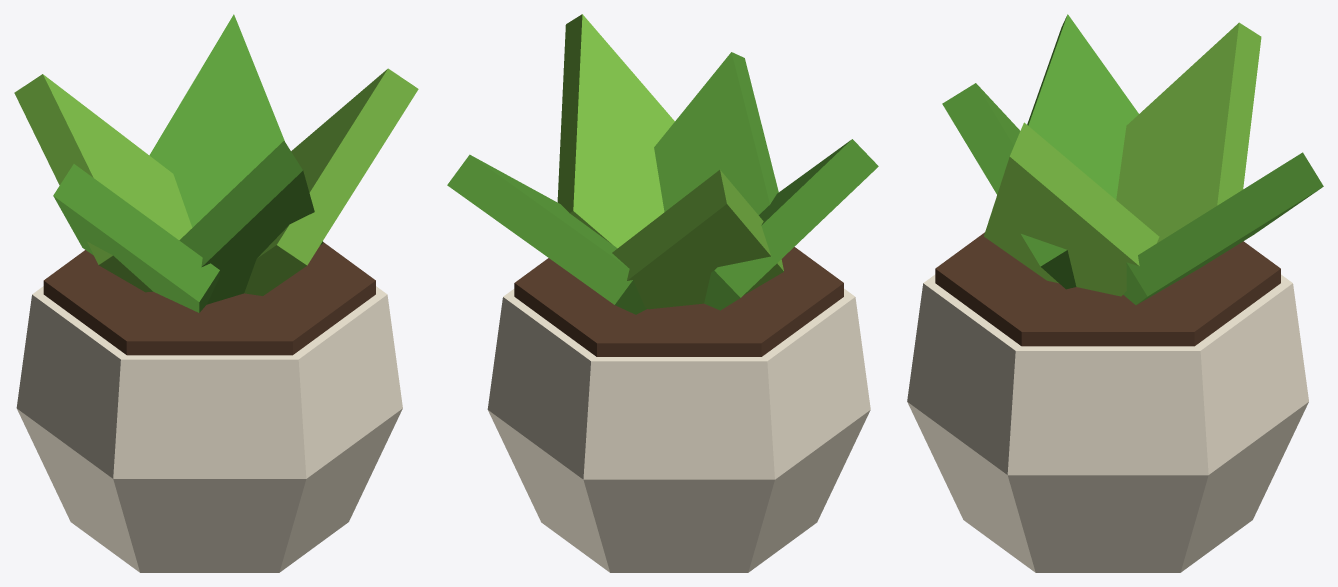
The model's file is plant_small.glb.
3 renders of one model, left to right at view 1: azimuth 30°, elevation 25°; view 2: azimuth 150°, elevation 25°; view 3: azimuth 270°, elevation 25°, orthographic. The views are drawn at different scales.
Parts seen in each view (by area): view 1: plant_small; view 2: plant_small; view 3: plant_small.
Boxes of the visible parts, x1=… form: plant_small: x1=14, y1=14, x2=418, y2=572; plant_small: x1=447, y1=14, x2=878, y2=572; plant_small: x1=907, y1=14, x2=1323, y2=572.
Size of the model in its own units: 0.2036 by 0.2568 by 0.2073.
